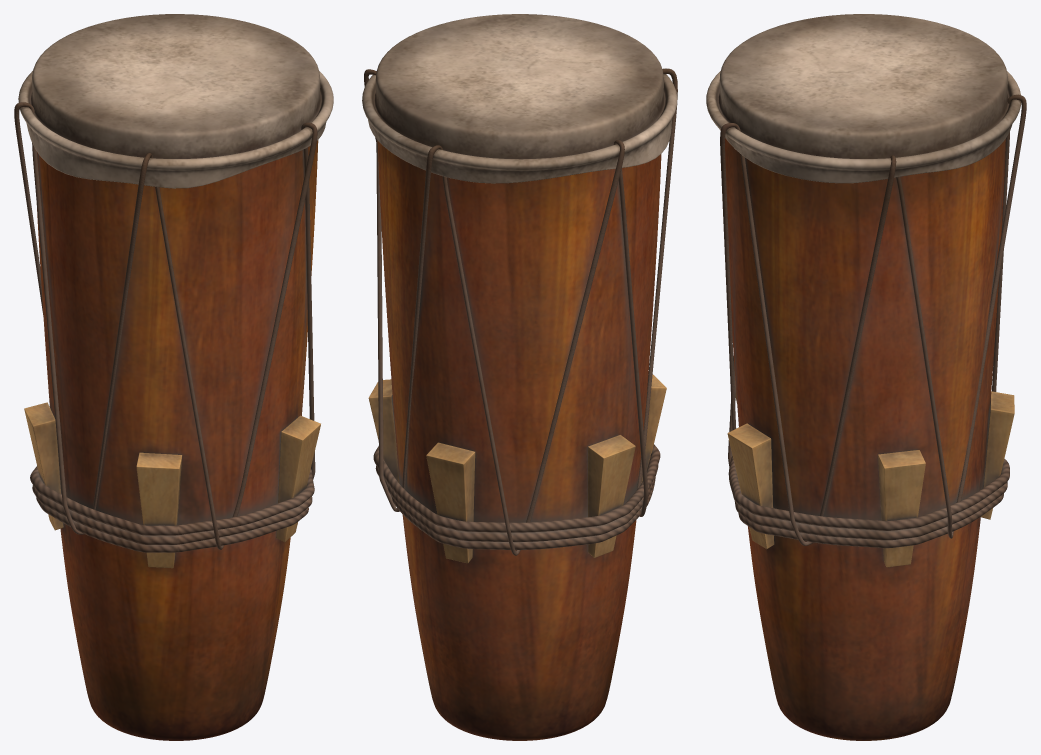
File: obj_cununo_macho_e7f45a.glb
3 views of the same model, side by side, from view 1: azimuth 30°, elevation 25°; view 2: azimuth 150°, elevation 25°; view 3: azimuth 270°, elevation 25° (orthographic).
Visible parts, largest first — view 1: obj_cununo_macho_e7f45a; view 2: obj_cununo_macho_e7f45a; view 3: obj_cununo_macho_e7f45a.
Part boxes in pixels (x1,y1,x2,y2): obj_cununo_macho_e7f45a: (14, 14, 333, 740); obj_cununo_macho_e7f45a: (362, 14, 677, 740); obj_cununo_macho_e7f45a: (706, 14, 1026, 740).
Bounding box in the file's own units: 0.2745 × 0.6 × 0.2744.
Materials: 1 (1 with a texture image).
